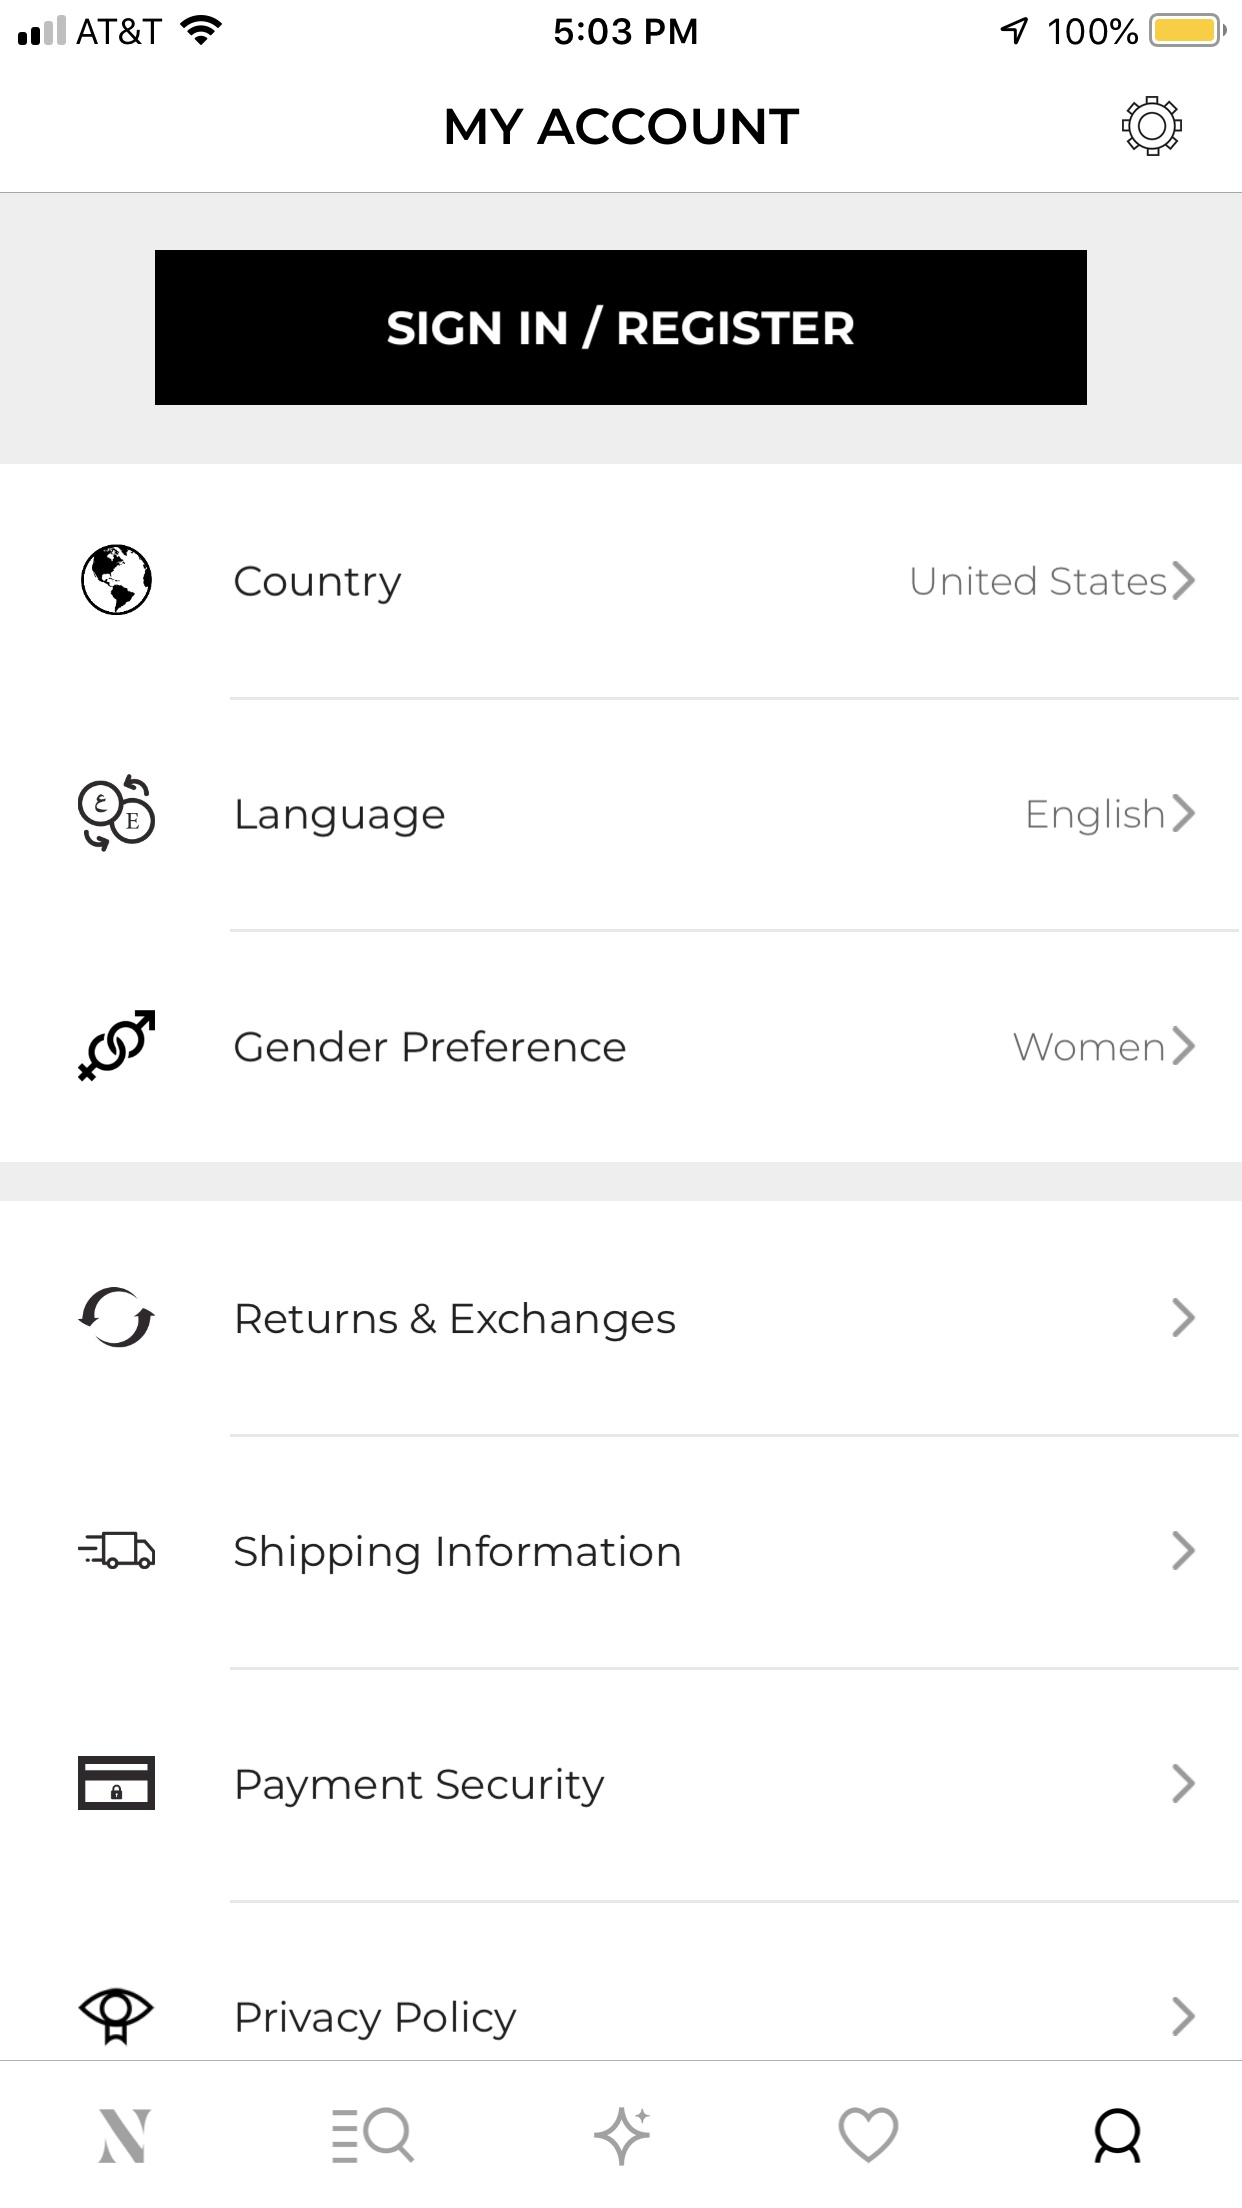Icon: (77, 1287, 156, 1350), (332, 2106, 416, 2164), (77, 1987, 156, 2047), (77, 1756, 156, 1811), (1122, 96, 1183, 158), (839, 2106, 899, 2166), (1093, 2106, 1142, 2163), (1171, 1996, 1197, 2037), (1171, 1764, 1197, 1805), (1171, 1530, 1197, 1571), (1171, 1297, 1197, 1338), (1171, 1025, 1197, 1066), (1171, 561, 1197, 602), (1171, 793, 1197, 833)
Image: (77, 773, 156, 852), (77, 1010, 158, 1083), (80, 544, 153, 617), (594, 2106, 651, 2167), (79, 1532, 158, 1570), (99, 2108, 153, 2163)
Text: (235, 1535, 681, 1576), (237, 1303, 676, 1344), (237, 1767, 607, 1809), (446, 108, 801, 147), (234, 1030, 626, 1063), (237, 1999, 519, 2041), (237, 798, 446, 839), (911, 566, 1168, 597), (235, 566, 403, 607), (1027, 798, 1165, 839), (1013, 1033, 1165, 1062)
TextButton: (155, 252, 1087, 406)
UpperTaskBar: (2, 2, 1242, 49)
